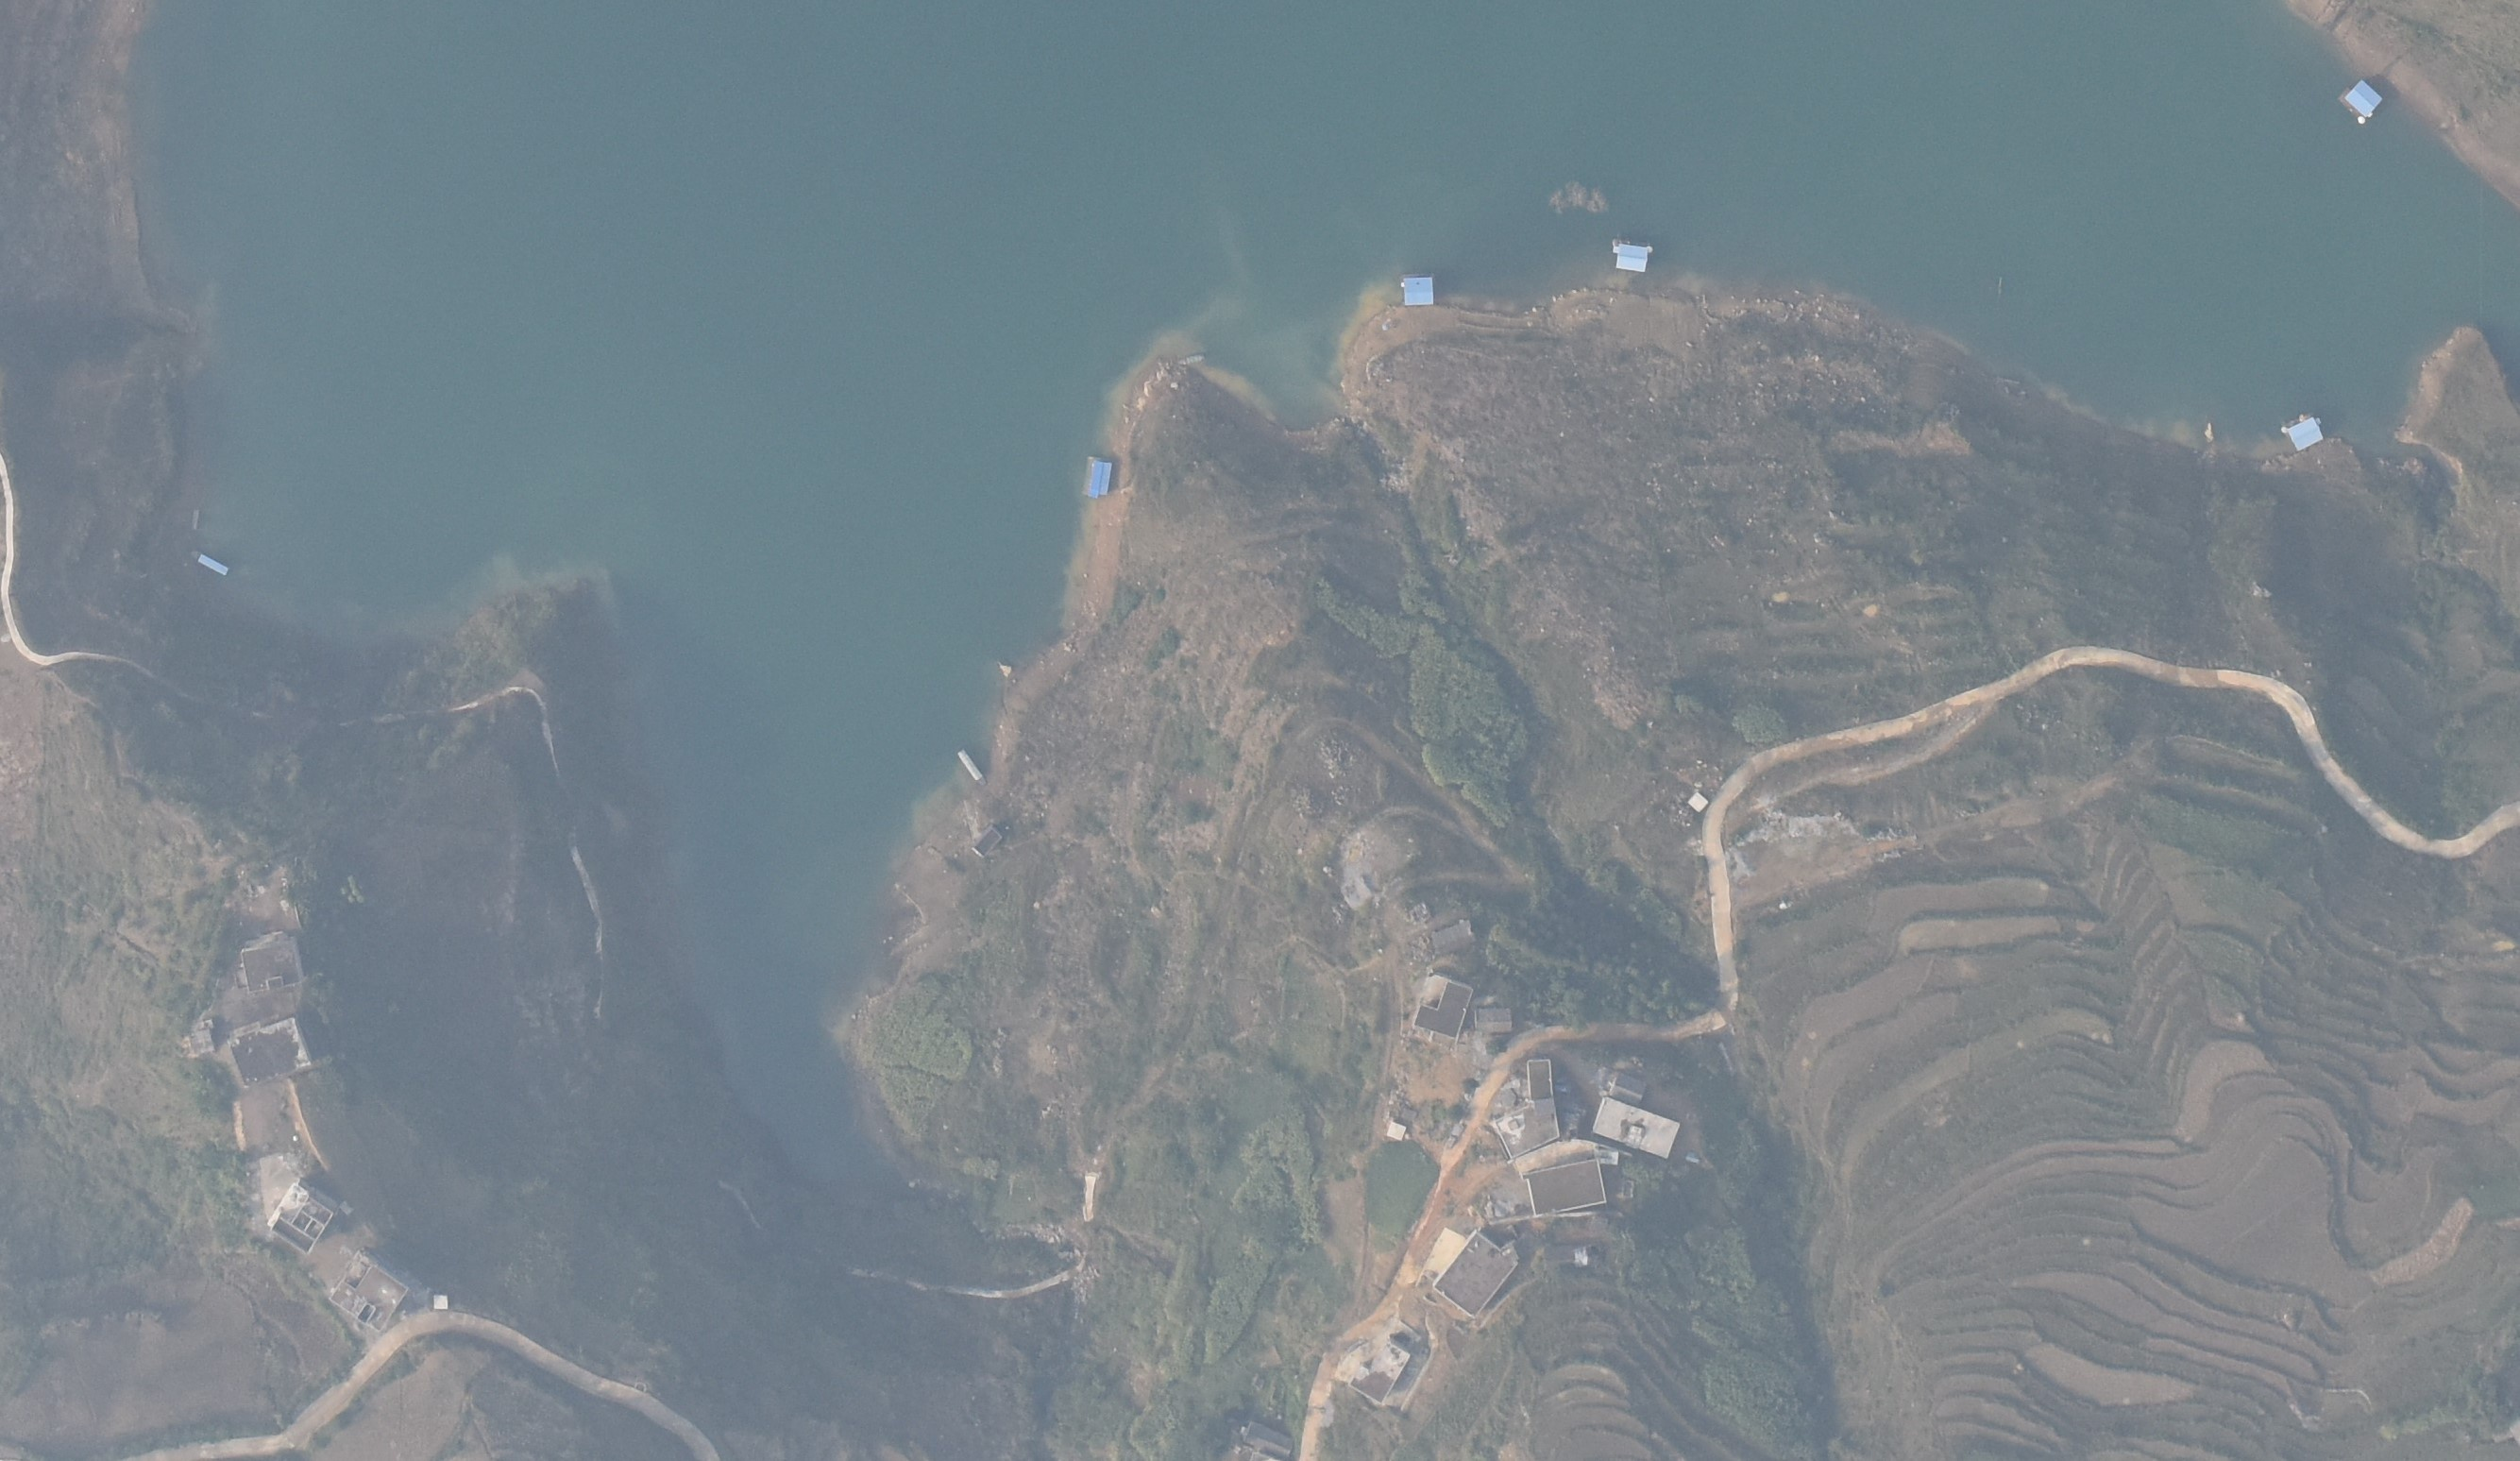building: (1430, 1224, 1521, 1320), (328, 1249, 410, 1332), (224, 1014, 316, 1087), (1590, 1096, 1682, 1160), (264, 1177, 335, 1259), (1517, 1157, 1609, 1217), (1347, 1336, 1418, 1407), (1409, 969, 1476, 1042), (238, 931, 311, 995), (1493, 1101, 1568, 1160), (1237, 1416, 1296, 1461), (966, 823, 1010, 864), (1467, 1004, 1521, 1037), (1524, 1056, 1555, 1103), (1608, 1071, 1646, 1108), (1684, 791, 1712, 811), (1387, 1120, 1411, 1141)
prefabricated-house: (2341, 77, 2384, 125), (2284, 410, 2329, 452), (1602, 242, 1655, 275), (1399, 270, 1439, 311), (1083, 452, 1116, 501), (195, 551, 229, 577)
ship: (954, 744, 989, 790)
